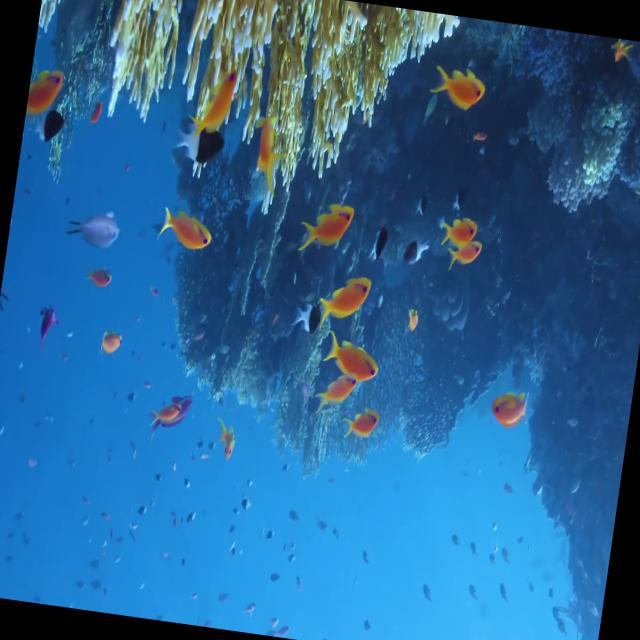fish: (156, 194, 218, 254), (298, 198, 356, 262), (312, 272, 370, 336), (320, 328, 382, 382), (64, 203, 122, 258), (431, 58, 490, 112), (169, 120, 226, 174), (439, 229, 482, 284), (310, 380, 358, 416), (487, 388, 528, 428)
